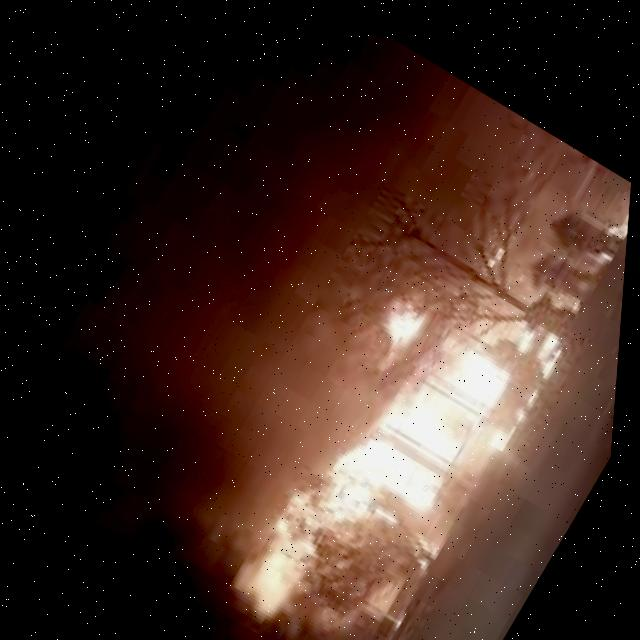Fire: (276, 204, 600, 640)
Smoke: (53, 60, 503, 608)
